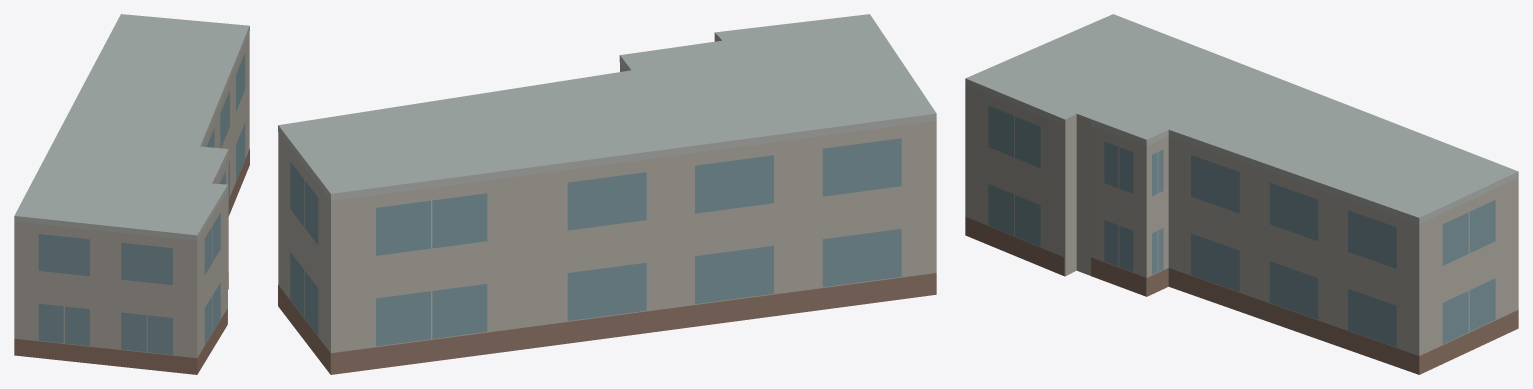
File: survey-upis-32749091.glb
The picture shows the model from 3 angles, left to right: view 1: azimuth 30°, elevation 25°; view 2: azimuth 150°, elevation 25°; view 3: azimuth 270°, elevation 25°; orthographic projection. The views are drawn at different scales.
Visible parts, largest first — view 1: survey-upis-32749091.tmp; view 2: survey-upis-32749091.tmp; view 3: survey-upis-32749091.tmp.
Boxes of the visible parts, x1,y1,x2,y2 form: survey-upis-32749091.tmp: (14,14,249,374); survey-upis-32749091.tmp: (278,14,936,374); survey-upis-32749091.tmp: (965,14,1518,374).
Bounding box in the file's own units: 17 × 6.1 × 19.49.
